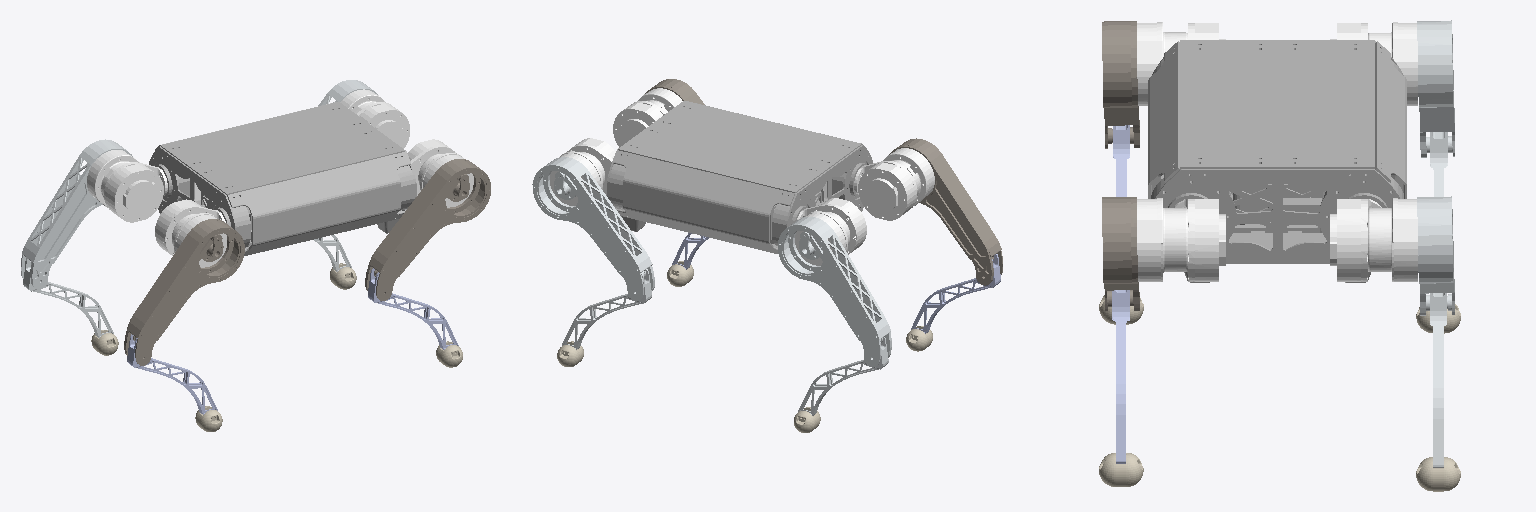
URDF robot description (rc_dog):
<?xml version="1.0" encoding="UTF-8"?>
<robot name="rc_dog">
  <!--
    Isaac Gym training model derived from the SolidWorks export.
    Coordinate convention: x forward, y left, z up.
    Joint and link names follow the A1 FR/FL/RR/RL convention.
  -->

  <material name="body_grey">
    <color rgba="0.752941 0.752941 0.752941 1"/>
  </material>
  <material name="hip_white">
    <color rgba="1 1 1 1"/>
  </material>
  <material name="leg_light">
    <color rgba="0.898039 0.917647 0.929412 1"/>
  </material>
  <material name="leg_dark">
    <color rgba="0.64706 0.61961 0.58824 1"/>
  </material>
  <material name="calf_blue">
    <color rgba="0.792157 0.819608 0.933333 1"/>
  </material>
  <material name="foot_grey">
    <color rgba="0.84314 0.81569 0.75294 1"/>
  </material>
  <material name="imu_red">
    <color rgba="0.8 0 0 1"/>
  </material>

  <link name="base_link">
    <inertial>
      <origin xyz="0 0 0" rpy="0 0 0"/>
      <mass value="5.661"/>
      <inertia ixx="0.03131" ixy="4.85296702838236e-05" ixz="2.32312668477577e-05"
               iyy="0.05735" iyz="-3.6491782731198e-05" izz="0.07513"/>
    </inertial>
    <visual>
      <origin xyz="0 0 0" rpy="0 0 0"/>
      <geometry>
        <mesh filename="../meshes/base_link.STL"/>
      </geometry>
      <material name="body_grey"/>
    </visual>
    <collision>
      <origin xyz="0 0 -0.014" rpy="0 0 0"/>
      <geometry>
        <box size="0.36 0.24 0.14"/>
      </geometry>
    </collision>
  </link>

  <joint name="imu_joint" type="fixed">
    <origin xyz="0 0 0" rpy="0 0 0"/>
    <parent link="base_link"/>
    <child link="imu_link"/>
  </joint>
  <link name="imu_link">
    <inertial>
      <origin xyz="0 0 0" rpy="0 0 0"/>
      <mass value="0.001"/>
      <inertia ixx="0.0001" ixy="0" ixz="0" iyy="0.0001" iyz="0" izz="0.0001"/>
    </inertial>
    <visual>
      <origin xyz="0 0 0" rpy="0 0 0"/>
      <geometry>
        <box size="0.001 0.001 0.001"/>
      </geometry>
      <material name="imu_red"/>
    </visual>
  </link>

  <!-- Front right leg. -->
  <joint name="FR_hip_joint" type="revolute">
    <origin xyz="0.23866 -0.1 0" rpy="0 0 0"/>
    <parent link="base_link"/>
    <child link="FR_hip"/>
    <axis xyz="1 0 0"/>
    <limit lower="-0.863" upper="0.863" effort="23.7" velocity="30.1"/>
    <dynamics damping="0" friction="0"/>
  </joint>
  <link name="FR_hip">
    <inertial>
      <origin xyz="0.00363815 0.01553565 0.00001048" rpy="1.57 1.57 0"/>
      <mass value="0.62424534"/>
      <inertia ixx="0.00041791" ixy="0.00003501" ixz="0.00000013"
               iyy="0.00077453" iyz="-0.00000013" izz="0.00053104"/>
    </inertial>
    <visual>
      <origin xyz="0 0 0" rpy="0 0 0"/>
      <geometry>
        <mesh filename="../meshes/rf_hip_Link.STL"/>
      </geometry>
      <material name="hip_white"/>
    </visual>
  </link>

  <joint name="FR_thigh_joint" type="revolute">
    <origin xyz="0 -0.0689 0" rpy="0 0.69459 0"/>
    <parent link="FR_hip"/>
    <child link="FR_thigh"/>
    <axis xyz="0 1 0"/>
    <limit lower="-4.501" upper="4.501" effort="23.7" velocity="30.1"/>
    <dynamics damping="0" friction="0"/>
  </joint>
  <link name="FR_thigh">
    <inertial>
      <origin xyz="-0.00373612 -0.02658411 -0.02539968" rpy="0 0 0"/>
      <mass value="0.94153487"/>
      <inertia ixx="0.00404710" ixy="-0.00009849" ixz="0.00033391"
               iyy="0.00405785" iyz="-0.00062094" izz="0.00118353"/>
    </inertial>
    <visual>
      <origin xyz="0 0 0" rpy="0 0 0"/>
      <geometry>
        <mesh filename="../meshes/rf_leg1_Link.STL"/>
      </geometry>
      <material name="leg_dark"/>
    </visual>
    <collision>
      <origin xyz="0 0 -0.1075" rpy="0 0 0"/>
      <geometry>
        <box size="0.0245 0.034 0.215"/>
      </geometry>
    </collision>
  </link>

  <joint name="FR_calf_joint" type="revolute">
    <origin xyz="-0.02628 -0.01219 -0.21354" rpy="0 -1.42139 0"/>
    <parent link="FR_thigh"/>
    <child link="FR_calf"/>
    <axis xyz="0 1 0"/>
    <limit lower="-3" upper="3" effort="35.55" velocity="20.06"/>
    <dynamics damping="0" friction="0"/>
  </joint>
  <link name="FR_calf">
    <inertial>
      <origin xyz="0 0.00512583 -0.09507053" rpy="0 0 1.57"/>
      <mass value="0.16674302"/>
      <inertia ixx="0.00136477" ixy="0" ixz="0.00000008"
               iyy="0.00134363" iyz="-0.0000392" izz="0.0000395"/>
    </inertial>
    <visual>
      <origin xyz="0 0 0" rpy="0 0 0"/>
      <geometry>
        <mesh filename="../meshes/rf_leg2_Link.STL"/>
      </geometry>
      <material name="calf_blue"/>
    </visual>
    <collision>
      <origin xyz="0 0 -0.1" rpy="0 0 0"/>
      <geometry>
        <cylinder radius="0.012" length="0.2"/>
      </geometry>
    </collision>
  </link>

  <joint name="FR_foot_fixed" type="fixed" dont_collapse="true">
    <origin xyz="0.005096 0 -0.20101" rpy="-3.1416 0.8801 -3.1416"/>
    <parent link="FR_calf"/>
    <child link="FR_foot"/>
  </joint>
  <link name="FR_foot">
    <inertial>
      <origin xyz="0 0 -0.00928397365682443" rpy="0 0 0"/>
      <mass value="0.06"/>
      <inertia ixx="0.0000096" ixy="0" ixz="0" iyy="0.0000096" iyz="0" izz="0.0000096"/>
    </inertial>
    <visual>
      <origin xyz="0 0 0" rpy="0 0 0"/>
      <geometry>
        <mesh filename="../meshes/rf_foot_Link.STL"/>
      </geometry>
      <material name="foot_grey"/>
    </visual>
    <collision>
      <origin xyz="0 0 0" rpy="0 0 0"/>
      <geometry>
        <sphere radius="0.02"/>
      </geometry>
    </collision>
  </link>

  <!-- Front left leg. -->
  <joint name="FL_hip_joint" type="revolute">
    <origin xyz="0.23866 0.1 0" rpy="0 0 0"/>
    <parent link="base_link"/>
    <child link="FL_hip"/>
    <axis xyz="1 0 0"/>
    <limit lower="-0.863" upper="0.863" effort="23.7" velocity="30.1"/>
    <dynamics damping="0" friction="0"/>
  </joint>
  <link name="FL_hip">
    <inertial>
      <origin xyz="0.00363815 -0.01553565 0.00001048" rpy="1.57 1.57 0"/>
      <mass value="0.62424534"/>
      <inertia ixx="0.00041791" ixy="-0.00003501" ixz="0.00000013"
               iyy="0.00077453" iyz="0.00000013" izz="0.00053104"/>
    </inertial>
    <visual>
      <origin xyz="0 0 0" rpy="0 0 0"/>
      <geometry>
        <mesh filename="../meshes/lf_hip_Link.STL"/>
      </geometry>
      <material name="hip_white"/>
    </visual>
  </link>

  <joint name="FL_thigh_joint" type="revolute">
    <origin xyz="0 0.0689 0" rpy="0 0.69459 0"/>
    <parent link="FL_hip"/>
    <child link="FL_thigh"/>
    <axis xyz="0 1 0"/>
    <limit lower="-4.501" upper="4.501" effort="23.7" velocity="30.1"/>
    <dynamics damping="0" friction="0"/>
  </joint>
  <link name="FL_thigh">
    <inertial>
      <origin xyz="-0.00373612 0.02658411 -0.02539968" rpy="0 0 0"/>
      <mass value="0.94153487"/>
      <inertia ixx="0.00404710" ixy="0.00009849" ixz="0.00033391"
               iyy="0.00405785" iyz="0.00062094" izz="0.00118353"/>
    </inertial>
    <visual>
      <origin xyz="0 0 0" rpy="0 0 0"/>
      <geometry>
        <mesh filename="../meshes/lf_leg1_Link.STL"/>
      </geometry>
      <material name="leg_light"/>
    </visual>
    <collision>
      <origin xyz="0 0 -0.1075" rpy="0 0 0"/>
      <geometry>
        <box size="0.0245 0.034 0.215"/>
      </geometry>
    </collision>
  </link>

  <joint name="FL_calf_joint" type="revolute">
    <origin xyz="-0.020935 0.016985 -0.2138" rpy="0 -1.42139 0"/>
    <parent link="FL_thigh"/>
    <child link="FL_calf"/>
    <axis xyz="0 1 0"/>
    <limit lower="-3" upper="3" effort="35.55" velocity="20.06"/>
    <dynamics damping="0" friction="0"/>
  </joint>
  <link name="FL_calf">
    <inertial>
      <origin xyz="0 0.00512583 -0.09507053" rpy="0 0 1.57"/>
      <mass value="0.16674302"/>
      <inertia ixx="0.00136477" ixy="0" ixz="0.00000008"
               iyy="0.00134363" iyz="-0.0000392" izz="0.0000395"/>
    </inertial>
    <visual>
      <origin xyz="0 0 0" rpy="0 0 0"/>
      <geometry>
        <mesh filename="../meshes/lf_leg2_Link.STL"/>
      </geometry>
      <material name="leg_light"/>
    </visual>
    <collision>
      <origin xyz="0 0 -0.1" rpy="0 0 0"/>
      <geometry>
        <cylinder radius="0.012" length="0.2"/>
      </geometry>
    </collision>
  </link>

  <joint name="FL_foot_fixed" type="fixed" dont_collapse="true">
    <origin xyz="0.0050966 0 -0.20101" rpy="3.1416 0.8801 3.1416"/>
    <parent link="FL_calf"/>
    <child link="FL_foot"/>
  </joint>
  <link name="FL_foot">
    <inertial>
      <origin xyz="0 0 -0.00928397365604253" rpy="0 0 0"/>
      <mass value="0.06"/>
      <inertia ixx="0.0000096" ixy="0" ixz="0" iyy="0.0000096" iyz="0" izz="0.0000096"/>
    </inertial>
    <visual>
      <origin xyz="0 0 0" rpy="0 0 0"/>
      <geometry>
        <mesh filename="../meshes/lf_foot_Link.STL"/>
      </geometry>
      <material name="foot_grey"/>
    </visual>
    <collision>
      <origin xyz="0 0 0" rpy="0 0 0"/>
      <geometry>
        <sphere radius="0.02"/>
      </geometry>
    </collision>
  </link>

  <!-- Rear right leg. -->
  <joint name="RR_hip_joint" type="revolute">
    <origin xyz="-0.24254 -0.1 0" rpy="0 0 0"/>
    <parent link="base_link"/>
    <child link="RR_hip"/>
    <axis xyz="1 0 0"/>
    <limit lower="-0.863" upper="0.863" effort="23.7" velocity="30.1"/>
    <dynamics damping="0" friction="0"/>
  </joint>
  <link name="RR_hip">
    <inertial>
      <origin xyz="0.00363815 0.01553565 0.00001048" rpy="1.57 1.57 0"/>
      <mass value="0.62424534"/>
      <inertia ixx="0.00041791" ixy="0.00003501" ixz="0.00000013"
               iyy="0.00077453" iyz="-0.00000013" izz="0.00053104"/>
    </inertial>
    <visual>
      <origin xyz="0 0 0" rpy="0 0 0"/>
      <geometry>
        <mesh filename="../meshes/rb_hip_Link.STL"/>
      </geometry>
      <material name="hip_white"/>
    </visual>
  </link>

  <joint name="RR_thigh_joint" type="revolute">
    <origin xyz="0 -0.0689 0" rpy="0 0.69459 0"/>
    <parent link="RR_hip"/>
    <child link="RR_thigh"/>
    <axis xyz="0 1 0"/>
    <limit lower="-4.501" upper="4.501" effort="23.7" velocity="30.1"/>
    <dynamics damping="0" friction="0"/>
  </joint>
  <link name="RR_thigh">
    <inertial>
      <origin xyz="-0.00373612 -0.02658411 -0.02539968" rpy="0 0 0"/>
      <mass value="0.94153487"/>
      <inertia ixx="0.00404710" ixy="-0.00009849" ixz="0.00033391"
               iyy="0.00405785" iyz="-0.00062094" izz="0.00118353"/>
    </inertial>
    <visual>
      <origin xyz="0 0 0" rpy="0 0 0"/>
      <geometry>
        <mesh filename="../meshes/rb_leg1_Link.STL"/>
      </geometry>
      <material name="leg_dark"/>
    </visual>
    <collision>
      <origin xyz="0 0 -0.1075" rpy="0 0 0"/>
      <geometry>
        <box size="0.0245 0.034 0.215"/>
      </geometry>
    </collision>
  </link>

  <joint name="RR_calf_joint" type="revolute">
    <origin xyz="-0.010006 -0.011967 -0.21493" rpy="0 -1.42139 0"/>
    <parent link="RR_thigh"/>
    <child link="RR_calf"/>
    <axis xyz="0 1 0"/>
    <limit lower="-3" upper="3" effort="35.55" velocity="20.06"/>
    <dynamics damping="0" friction="0"/>
  </joint>
  <link name="RR_calf">
    <inertial>
      <origin xyz="0 0.00512583 -0.09507053" rpy="0 0 1.57"/>
      <mass value="0.16674302"/>
      <inertia ixx="0.00136477" ixy="0" ixz="0.00000008"
               iyy="0.00134363" iyz="-0.0000392" izz="0.0000395"/>
    </inertial>
    <visual>
      <origin xyz="0 0 0" rpy="0 0 0"/>
      <geometry>
        <mesh filename="../meshes/rb_leg2_Link.STL"/>
      </geometry>
      <material name="calf_blue"/>
    </visual>
    <collision>
      <origin xyz="0 0 -0.1" rpy="0 0 0"/>
      <geometry>
        <cylinder radius="0.012" length="0.2"/>
      </geometry>
    </collision>
  </link>

  <joint name="RR_foot_fixed" type="fixed" dont_collapse="true">
    <origin xyz="0.005096 0 -0.20101" rpy="3.1416 0.8801 3.1416"/>
    <parent link="RR_calf"/>
    <child link="RR_foot"/>
  </joint>
  <link name="RR_foot">
    <inertial>
      <origin xyz="0 0 -0.00928397365694847" rpy="0 0 0"/>
      <mass value="0.06"/>
      <inertia ixx="0.0000096" ixy="0" ixz="0" iyy="0.0000096" iyz="0" izz="0.0000096"/>
    </inertial>
    <visual>
      <origin xyz="0 0 0" rpy="0 0 0"/>
      <geometry>
        <mesh filename="../meshes/rb_foot_Link.STL"/>
      </geometry>
      <material name="foot_grey"/>
    </visual>
    <collision>
      <origin xyz="0 0 0" rpy="0 0 0"/>
      <geometry>
        <sphere radius="0.02"/>
      </geometry>
    </collision>
  </link>

  <!-- Rear left leg. -->
  <joint name="RL_hip_joint" type="revolute">
    <origin xyz="-0.24254 0.1 0" rpy="0 0 0"/>
    <parent link="base_link"/>
    <child link="RL_hip"/>
    <axis xyz="1 0 0"/>
    <limit lower="-0.863" upper="0.863" effort="23.7" velocity="30.1"/>
    <dynamics damping="0" friction="0"/>
  </joint>
  <link name="RL_hip">
    <inertial>
      <origin xyz="0.00363815 -0.01553565 0.00001048" rpy="1.57 1.57 0"/>
      <mass value="0.62424534"/>
      <inertia ixx="0.00041791" ixy="-0.00003501" ixz="0.00000013"
               iyy="0.00077453" iyz="0.00000013" izz="0.00053104"/>
    </inertial>
    <visual>
      <origin xyz="0 0 0" rpy="0 0 0"/>
      <geometry>
        <mesh filename="../meshes/lb_hip_Link.STL"/>
      </geometry>
      <material name="hip_white"/>
    </visual>
  </link>

  <joint name="RL_thigh_joint" type="revolute">
    <origin xyz="0 0.0623 0" rpy="0 0.69459 0"/>
    <parent link="RL_hip"/>
    <child link="RL_thigh"/>
    <axis xyz="0 1 0"/>
    <limit lower="-4.501" upper="4.501" effort="23.7" velocity="30.1"/>
    <dynamics damping="0" friction="0"/>
  </joint>
  <link name="RL_thigh">
    <inertial>
      <origin xyz="-0.00373612 0.02658411 -0.02539968" rpy="0 0 0"/>
      <mass value="0.94153487"/>
      <inertia ixx="0.00404710" ixy="0.00009849" ixz="0.00033391"
               iyy="0.00405785" iyz="0.00062094" izz="0.00118353"/>
    </inertial>
    <visual>
      <origin xyz="0 0 0" rpy="0 0 0"/>
      <geometry>
        <mesh filename="../meshes/lb_leg1_Link.STL"/>
      </geometry>
      <material name="leg_light"/>
    </visual>
    <collision>
      <origin xyz="0 0 -0.1075" rpy="0 0 0"/>
      <geometry>
        <box size="0.0245 0.034 0.215"/>
      </geometry>
    </collision>
  </link>

  <joint name="RL_calf_joint" type="revolute">
    <origin xyz="0.001415 0.02388 -0.21471" rpy="0 -1.42139 0"/>
    <parent link="RL_thigh"/>
    <child link="RL_calf"/>
    <axis xyz="0 1 0"/>
    <limit lower="-3" upper="3" effort="35.55" velocity="20.06"/>
    <dynamics damping="0" friction="0"/>
  </joint>
  <link name="RL_calf">
    <inertial>
      <origin xyz="0 0.00512583 -0.09507053" rpy="0 0 1.57"/>
      <mass value="0.16674302"/>
      <inertia ixx="0.00136477" ixy="0" ixz="0.00000008"
               iyy="0.00134363" iyz="-0.0000392" izz="0.0000395"/>
    </inertial>
    <visual>
      <origin xyz="0 0 0" rpy="0 0 0"/>
      <geometry>
        <mesh filename="../meshes/lb_leg2_Link.STL"/>
      </geometry>
      <material name="leg_light"/>
    </visual>
    <collision>
      <origin xyz="0 0 -0.1" rpy="0 0 0"/>
      <geometry>
        <cylinder radius="0.012" length="0.2"/>
      </geometry>
    </collision>
  </link>

  <joint name="RL_foot_fixed" type="fixed" dont_collapse="true">
    <origin xyz="0.0050966 0 -0.20101" rpy="-3.1416 0.8801 3.1416"/>
    <parent link="RL_calf"/>
    <child link="RL_foot"/>
  </joint>
  <link name="RL_foot">
    <inertial>
      <origin xyz="0 0 -0.00928397365692848" rpy="0 0 0"/>
      <mass value="0.06"/>
      <inertia ixx="0.0000096" ixy="0" ixz="0" iyy="0.0000096" iyz="0" izz="0.0000096"/>
    </inertial>
    <visual>
      <origin xyz="0 0 0" rpy="0 0 0"/>
      <geometry>
        <mesh filename="../meshes/lb_foot_Link.STL"/>
      </geometry>
      <material name="foot_grey"/>
    </visual>
    <collision>
      <origin xyz="0 0 0" rpy="0 0 0"/>
      <geometry>
        <sphere radius="0.02"/>
      </geometry>
    </collision>
  </link>
</robot>

--- Render facts (derived) ---
3 views of the same robot in one strip: view 1: azimuth 30°, elevation 25°; view 2: azimuth 150°, elevation 25°; view 3: azimuth 270°, elevation 25° (orthographic).
Robot: rc_dog — 18 links, 17 joints (12 revolute, 5 fixed); root link base_link; default pose: all joints at 0.
Links seen in each view (by area): view 1: base_link, RR_thigh, FR_thigh, RL_thigh, RL_hip, RR_hip, FL_hip, FR_hip, FR_calf, RR_calf, RL_calf, FL_thigh; view 2: base_link, RL_thigh, FL_thigh, RR_thigh, RR_hip, RL_hip, FR_hip, FL_hip, FL_calf, RL_calf, RR_calf, FR_thigh; view 3: base_link, FR_hip, FL_hip, RL_thigh, RR_thigh, FL_thigh, FR_thigh, RR_hip, RL_hip, FL_calf, FR_calf, FL_foot (+4 smaller).
Boxes of the visible links, x1,y1,x2,y2 form: base_link: [149, 102, 416, 255]; RR_thigh: [124, 219, 244, 365]; FR_thigh: [365, 159, 490, 300]; RL_thigh: [21, 139, 132, 289]; RL_hip: [87, 150, 167, 222]; RR_hip: [155, 199, 226, 267]; FL_hip: [340, 89, 409, 148]; FR_hip: [407, 139, 473, 207]; FR_calf: [368, 268, 458, 349]; RR_calf: [127, 334, 217, 414]; RL_calf: [23, 258, 113, 337]; FL_thigh: [318, 80, 377, 105]; base_link: [607, 101, 872, 253]; RL_thigh: [778, 217, 891, 366]; FL_thigh: [532, 157, 654, 300]; RR_thigh: [889, 138, 1002, 285]; RR_hip: [854, 148, 934, 220]; RL_hip: [795, 198, 866, 265]; FR_hip: [613, 88, 682, 147]; FL_hip: [550, 138, 615, 205]; FL_calf: [562, 269, 651, 349]; RL_calf: [798, 337, 888, 415]; RR_calf: [911, 254, 1000, 333]; FR_thigh: [645, 79, 704, 104]; base_link: [1148, 40, 1406, 282]; FR_hip: [1137, 198, 1225, 281]; FL_hip: [1330, 198, 1417, 281]; RL_thigh: [1417, 20, 1454, 157]; RR_thigh: [1102, 21, 1139, 148]; FL_thigh: [1417, 196, 1454, 315]; FR_thigh: [1102, 197, 1139, 310]; RR_hip: [1137, 22, 1225, 105]; RL_hip: [1330, 22, 1417, 105]; FL_calf: [1430, 293, 1446, 467]; FR_calf: [1112, 290, 1129, 463]; FL_foot: [1416, 457, 1460, 491].
Size in the robot's own frame: 0.6931 by 0.4193 by 0.4027 metres.
17 mesh visuals loaded from 17 distinct referenced files (17 binary STL).
